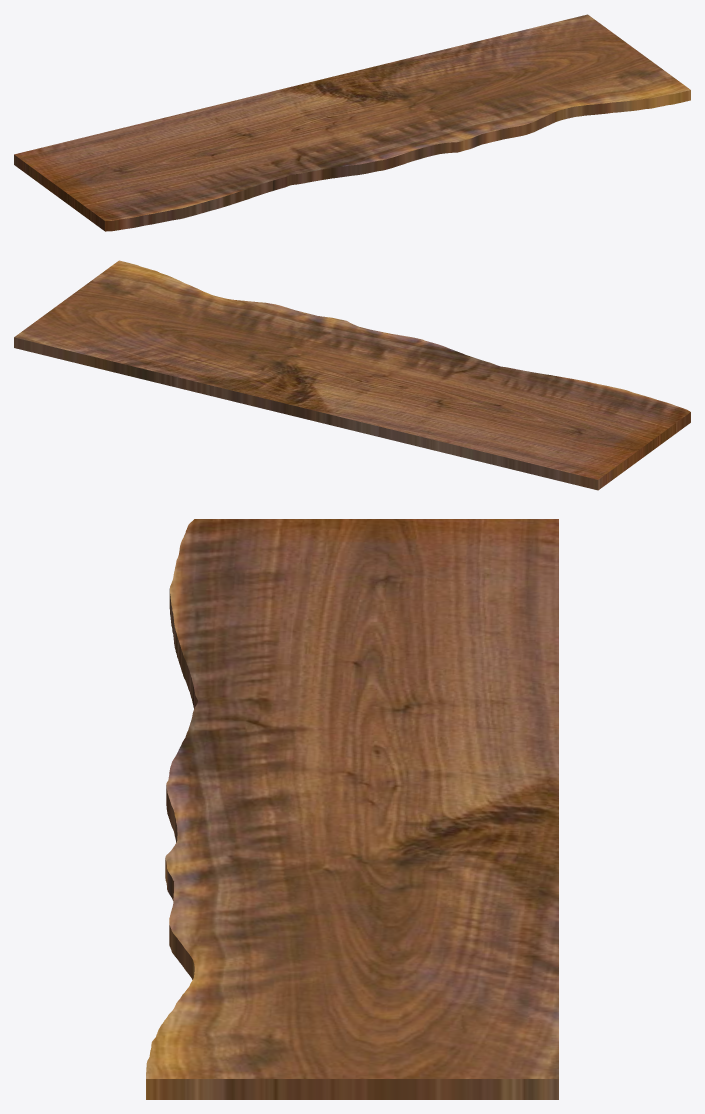
File: counterTop80LiveEdge.glb
The picture shows the model from 3 angles, top to bottom: view 1: azimuth 30°, elevation 25°; view 2: azimuth 150°, elevation 25°; view 3: azimuth 270°, elevation 25°; orthographic projection. The views are drawn at different scales.
Visible parts, largest first — view 1: luxLiveEdgeWorkSurface; view 2: luxLiveEdgeWorkSurface; view 3: luxLiveEdgeWorkSurface.
Part boxes in pixels (x1,y1,x2,y2): luxLiveEdgeWorkSurface: (14,14,690,231); luxLiveEdgeWorkSurface: (14,260,690,490); luxLiveEdgeWorkSurface: (146,519,558,1099).
Size of the model in its own units: 2.03 by 0.0353 by 0.633.
Materials: 2 (2 with a texture image).
